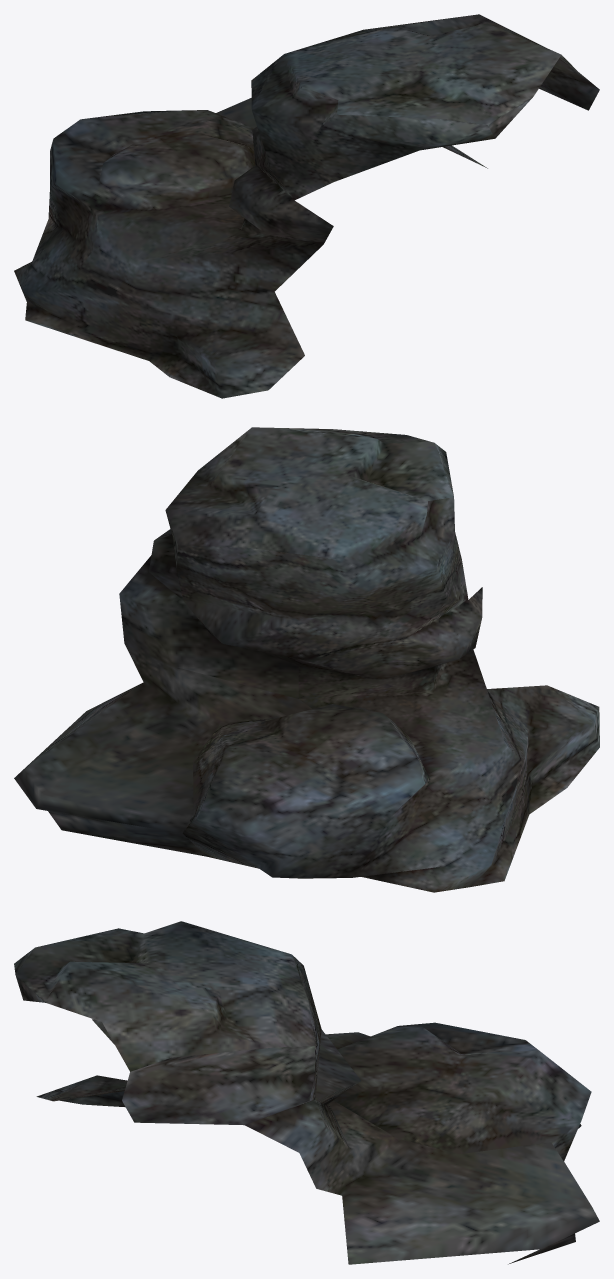
File: S_Rock_Yellow034_H30.FBX
3 views of the same model, one above another, from view 1: azimuth 30°, elevation 25°; view 2: azimuth 150°, elevation 25°; view 3: azimuth 270°, elevation 25° (orthographic). The views are drawn at different scales.
Parts seen in each view (by area): view 1: S_Rock_Yellow034_H30; view 2: S_Rock_Yellow034_H30; view 3: S_Rock_Yellow034_H30.
Part boxes in pixels (bbox=[...]): S_Rock_Yellow034_H30: bbox=[14, 14, 599, 398]; S_Rock_Yellow034_H30: bbox=[14, 427, 599, 892]; S_Rock_Yellow034_H30: bbox=[14, 921, 599, 1264].
Size of the model in its own units: 792 by 886 by 463.
Materials: 1 (1 with a texture image).
